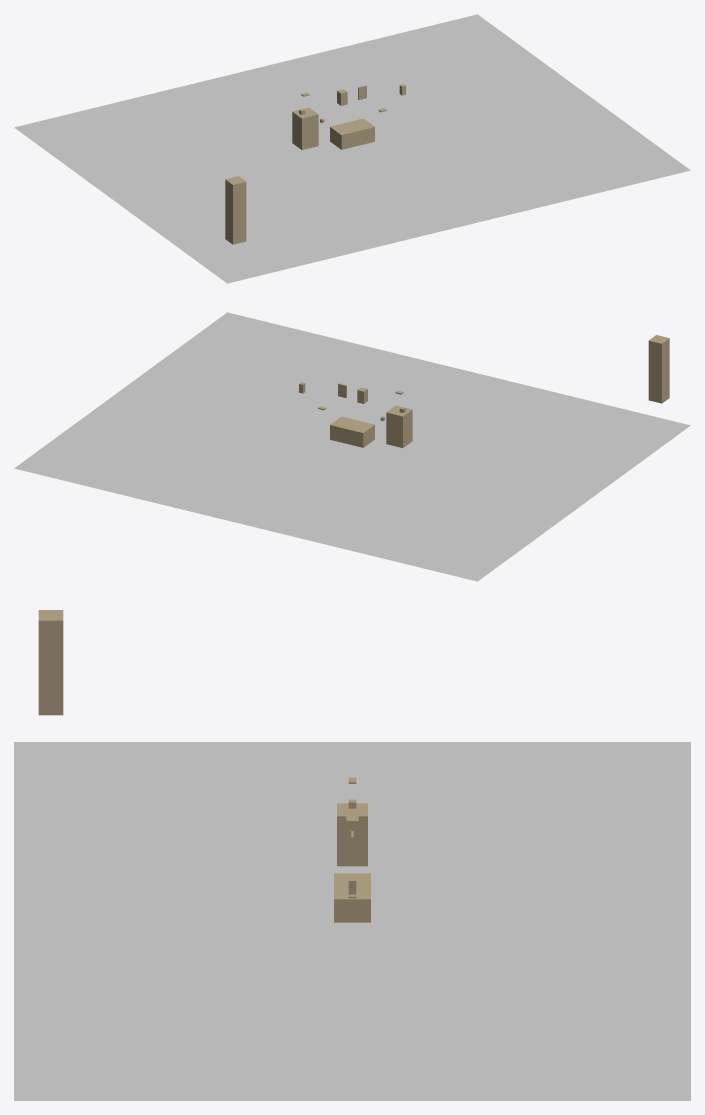
Rendered from draft-aa408294.obj.
3 views of the same model, one above another, from view 1: azimuth 30°, elevation 25°; view 2: azimuth 150°, elevation 25°; view 3: azimuth 270°, elevation 25° (orthographic). The views are drawn at different scales.
Parts seen in each view (by area): view 1: Floor, asm_lamp_floor_3, asm_table_coffee_2, asm_chair_standard_1; view 2: Floor, asm_lamp_floor_3, asm_table_coffee_2, asm_chair_standard_1; view 3: Floor, asm_lamp_floor_3, asm_table_coffee_2, asm_chair_standard_1.
Part boxes in pixels (x1=…): Floor: x1=14, y1=14, x2=690, y2=283; asm_lamp_floor_3: x1=225, y1=176, x2=246, y2=244; asm_table_coffee_2: x1=330, y1=118, x2=374, y2=149; asm_chair_standard_1: x1=292, y1=107, x2=318, y2=149; Floor: x1=14, y1=312, x2=690, y2=581; asm_lamp_floor_3: x1=648, y1=335, x2=669, y2=403; asm_table_coffee_2: x1=330, y1=416, x2=374, y2=447; asm_chair_standard_1: x1=386, y1=405, x2=412, y2=447; Floor: x1=14, y1=742, x2=690, y2=1100; asm_lamp_floor_3: x1=38, y1=610, x2=63, y2=715; asm_table_coffee_2: x1=334, y1=873, x2=370, y2=922; asm_chair_standard_1: x1=337, y1=803, x2=367, y2=866.
Size of the model in its own units: 6.9 by 1.27 by 5.5.
